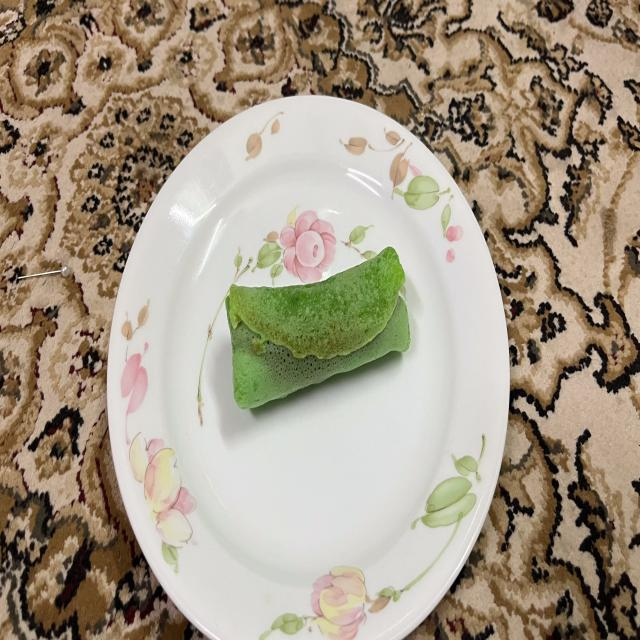Kuih-Ketayap: (225, 247, 410, 409)
